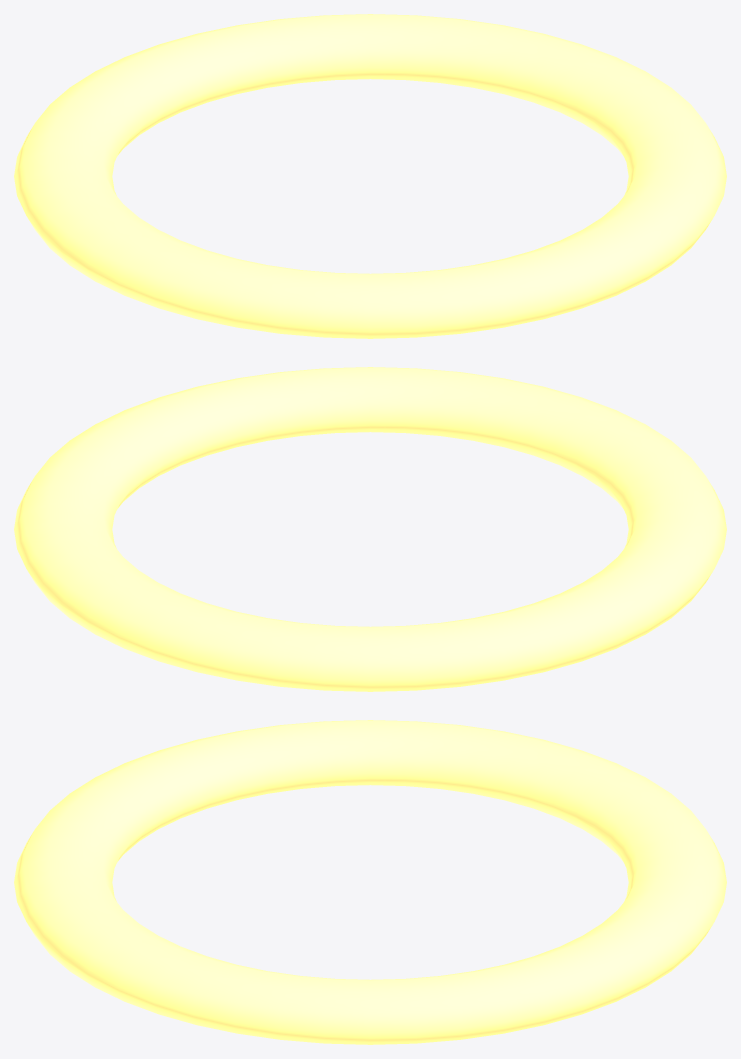
Rendered from VFX_Fire_Ring.fbx.
3 views of the same model, one above another, from view 1: azimuth 30°, elevation 25°; view 2: azimuth 150°, elevation 25°; view 3: azimuth 270°, elevation 25° (orthographic).
Visible parts, largest first — view 1: VFX_Fire_Ring; view 2: VFX_Fire_Ring; view 3: VFX_Fire_Ring.
Boxes of the visible parts, x1,y1,x2,y2 form: VFX_Fire_Ring: [14, 14, 726, 338]; VFX_Fire_Ring: [14, 367, 726, 691]; VFX_Fire_Ring: [14, 720, 726, 1044].
Bounding box in the file's own units: 2.32 × 0.1826 × 2.32.
